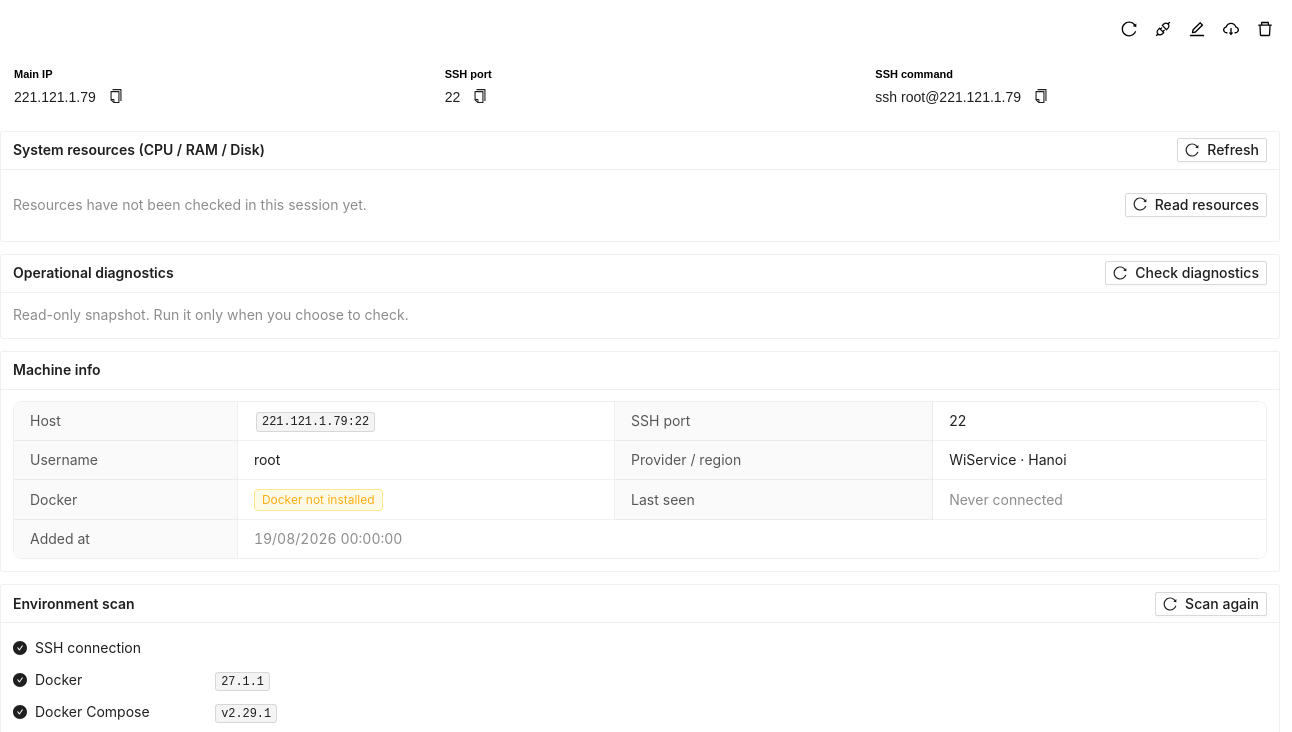
Test: VpsOverviewTab — card Environment scan › distinguishes unavailable partial fields from numeric zero and a valid empty process list
Click the button "Check diagnostics".
click(1186, 273)  # box 1105,261 -> 1267,285
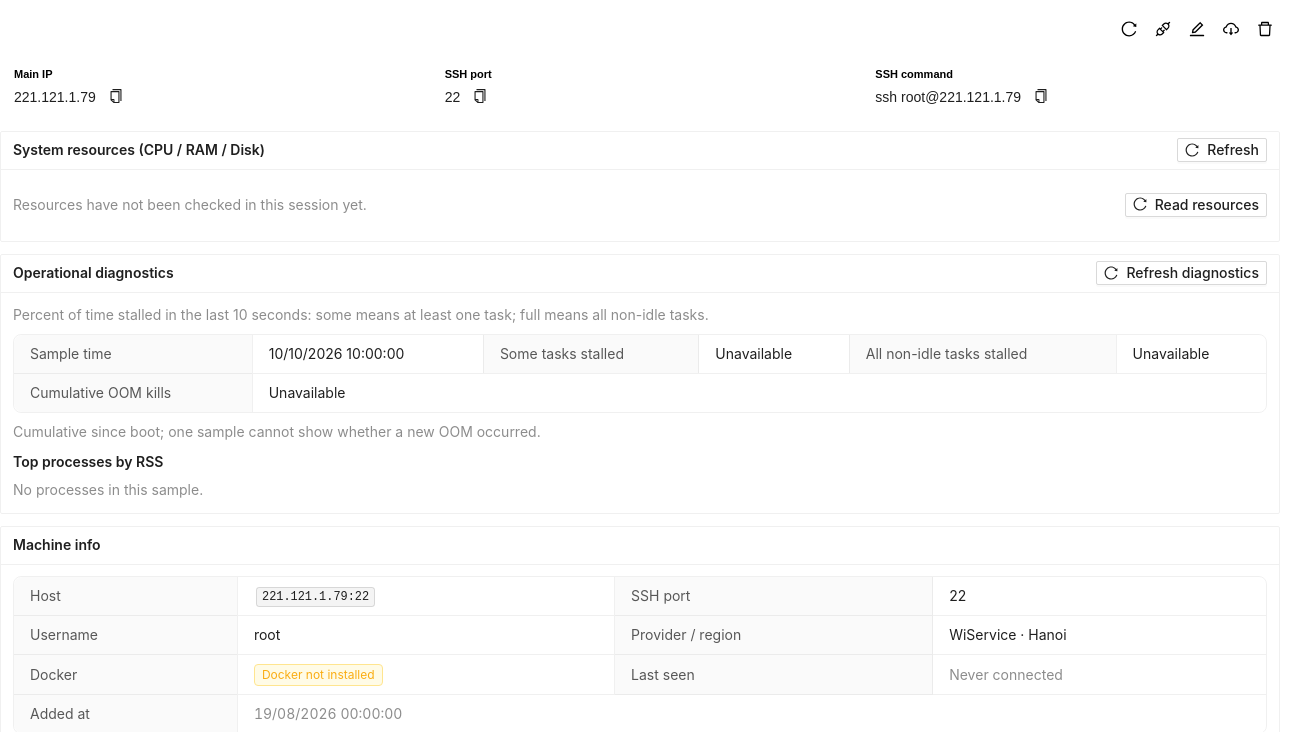
Check: the text "No processes in this sample." is shown, box 13,481 -> 203,498
Check: the text "Unavailable" is shown 3 times, box 715,345 -> 792,362; 1133,345 -> 1209,362; 269,384 -> 346,401
